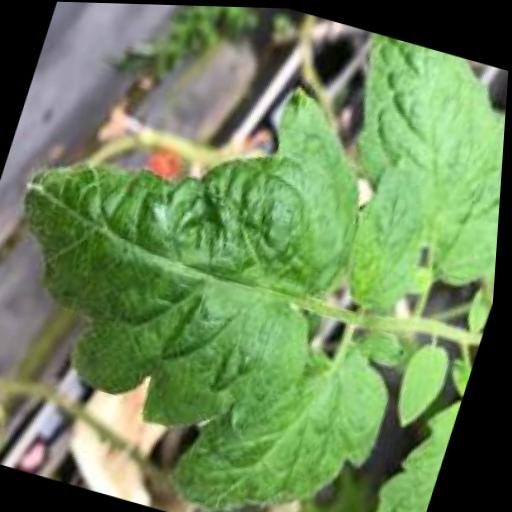Healthy: (0, 83, 372, 460), (169, 316, 407, 512), (333, 155, 452, 320), (387, 329, 465, 432)
